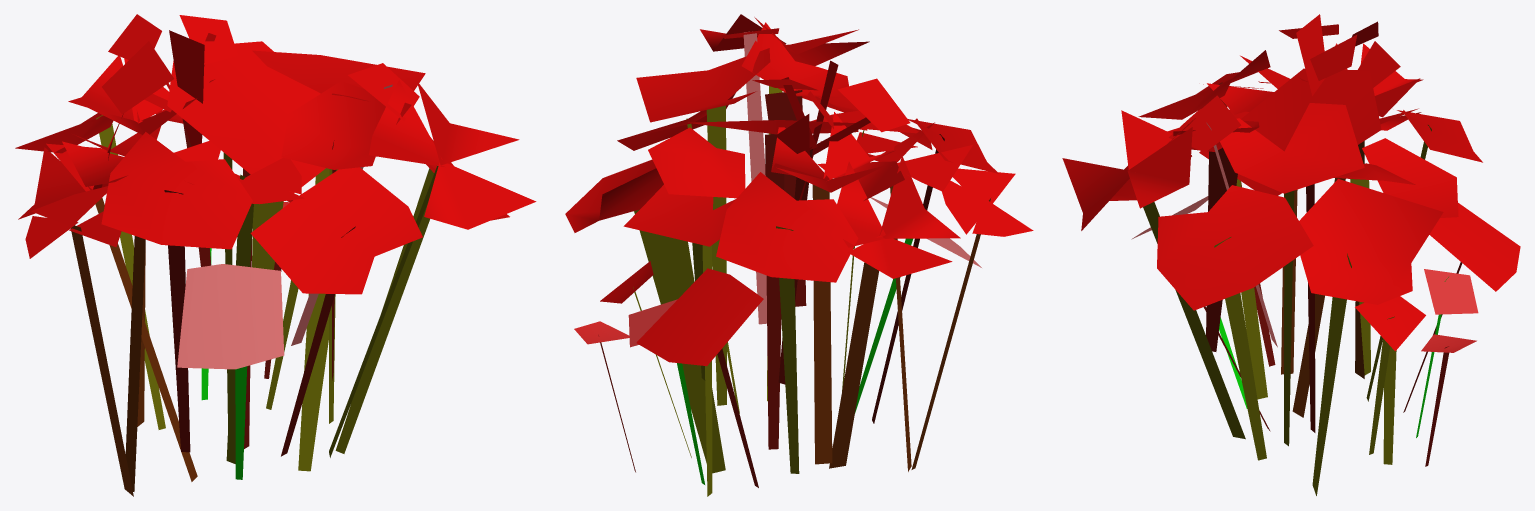
The model's file is Var1_LOD3.fbx.
The picture shows the model from 3 angles, left to right: view 1: azimuth 30°, elevation 25°; view 2: azimuth 150°, elevation 25°; view 3: azimuth 270°, elevation 25°; orthographic projection. The views are drawn at different scales.
Visible parts, largest first — view 1: _8d45_Var1_LOD3; view 2: _8d45_Var1_LOD3; view 3: _8d45_Var1_LOD3.
Part boxes in pixels (x1,y1,x2,y2): _8d45_Var1_LOD3: [15, 14, 536, 496]; _8d45_Var1_LOD3: [565, 14, 1033, 496]; _8d45_Var1_LOD3: [1062, 14, 1520, 495].
Size of the model in its own units: 27.62 by 28.12 by 27.66.
